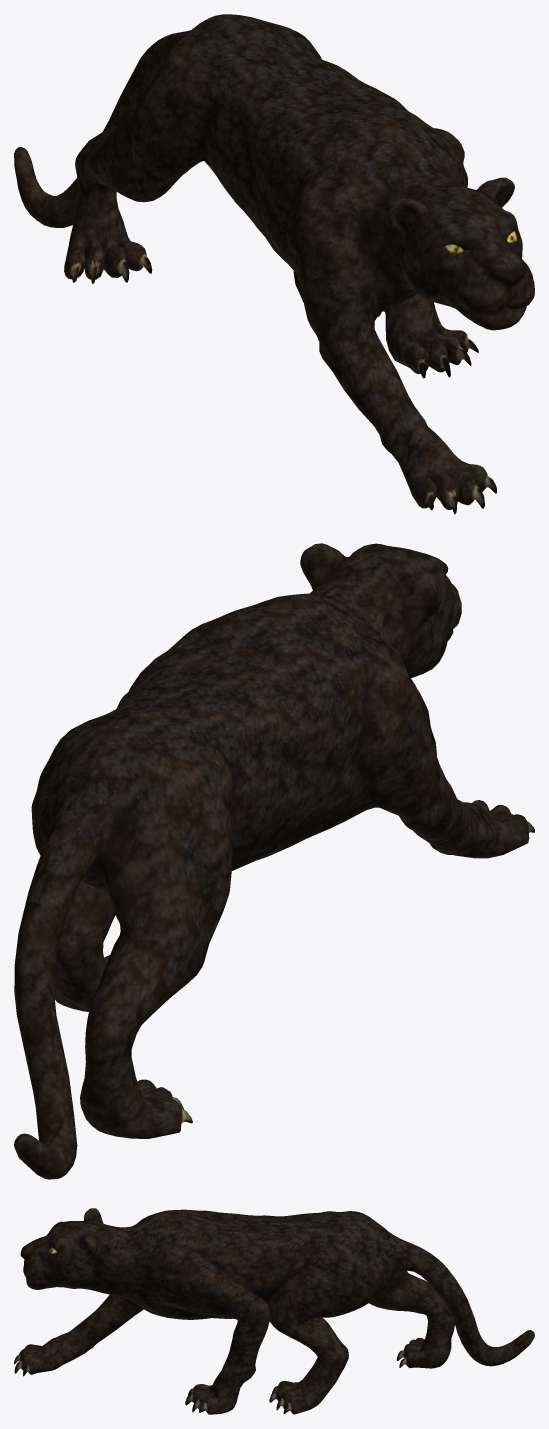
File: MZ4250 - Panther.glb
The picture shows the model from 3 angles, top to bottom: view 1: azimuth 30°, elevation 25°; view 2: azimuth 150°, elevation 25°; view 3: azimuth 270°, elevation 25°; orthographic projection. The views are drawn at different scales.
Parts seen in each view (by area): view 1: Wolfey2.001; view 2: Wolfey2.001; view 3: Wolfey2.001.
Boxes of the visible parts, x1,y1,x2,y2 form: Wolfey2.001: (14, 14, 534, 514); Wolfey2.001: (14, 543, 534, 1179); Wolfey2.001: (14, 1208, 534, 1414).
Size of the model in its own units: 0.2043 by 0.2407 by 0.6695.
Materials: 1 (1 with a texture image).
